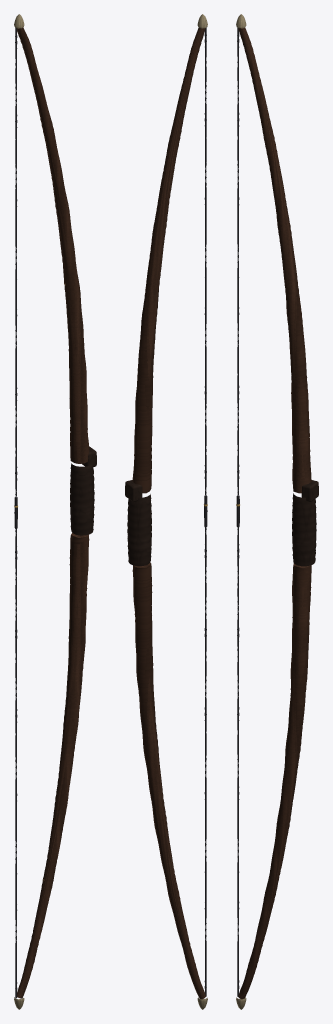
File: longbow.lod1.glb
The picture shows the model from 3 angles, left to right: view 1: azimuth 30°, elevation 25°; view 2: azimuth 210°, elevation 25°; view 3: azimuth 330°, elevation 25°; orthographic projection.
Parts seen in each view (by area): view 1: wood / oiled hardwood, cord / waxed silk cord wrap, leather / oiled leather wrap; view 2: wood / oiled hardwood, cord / waxed silk cord wrap, leather / oiled leather wrap; view 3: wood / oiled hardwood, cord / waxed silk cord wrap, leather / oiled leather wrap.
Boxes of the visible parts, x1=… form: wood / oiled hardwood: x1=17, y1=27, x2=89, y2=998; cord / waxed silk cord wrap: x1=14, y1=28, x2=17, y2=998; leather / oiled leather wrap: x1=70, y1=446, x2=96, y2=535; wood / oiled hardwood: x1=132, y1=28, x2=205, y2=999; cord / waxed silk cord wrap: x1=204, y1=27, x2=207, y2=996; leather / oiled leather wrap: x1=125, y1=480, x2=151, y2=566; wood / oiled hardwood: x1=238, y1=28, x2=311, y2=999; cord / waxed silk cord wrap: x1=236, y1=27, x2=239, y2=996; leather / oiled leather wrap: x1=292, y1=480, x2=318, y2=566.
Bounding box in the file's own units: 0.1564 × 1.89 × 0.0427.
7 materials, 5 textured.
